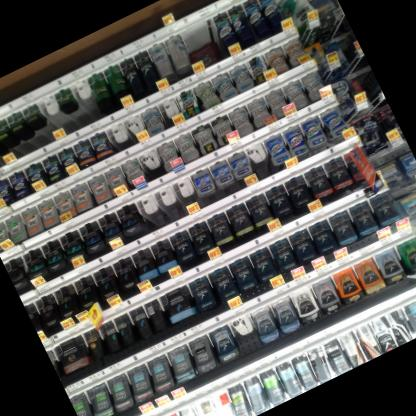empty_space: (37, 95, 72, 142), (70, 79, 105, 125), (138, 149, 167, 182), (121, 115, 150, 145), (106, 123, 132, 153), (213, 391, 241, 416), (196, 396, 229, 416)
